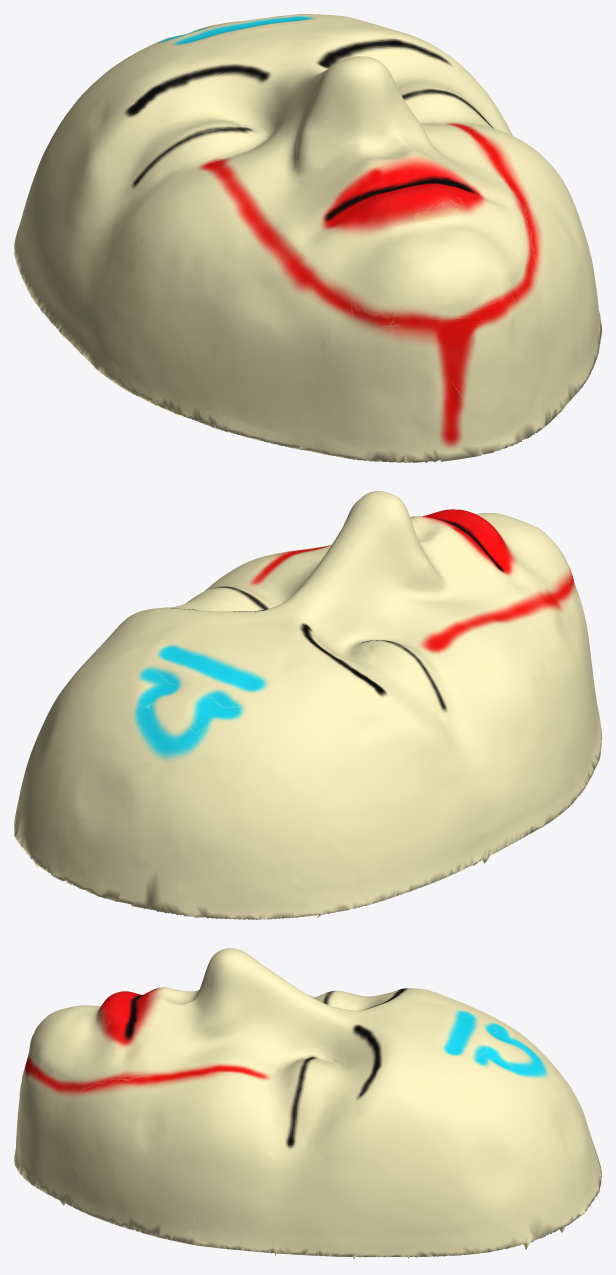
Rendered from mask.glb.
3 views of the same model, one above another, from view 1: azimuth 30°, elevation 25°; view 2: azimuth 150°, elevation 25°; view 3: azimuth 270°, elevation 25° (orthographic). The views are drawn at different scales.
Parts seen in each view (by area): view 1: mask; view 2: mask; view 3: mask.
Part boxes in pixels (x1,y1,x2,y2): mask: (14,14,601,462); mask: (14,491,601,919); mask: (14,948,601,1259).
Size of the model in its own units: 0.1303 by 0.0781 by 0.1871.
1 material, 1 textured.
